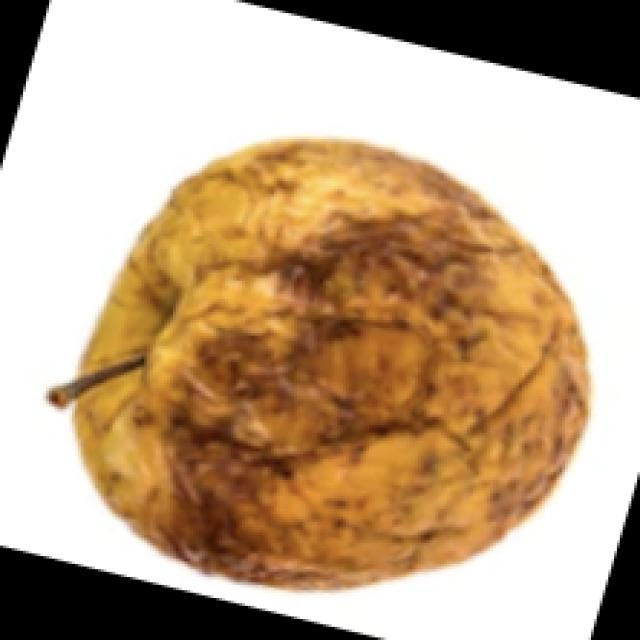Rotten: (74, 133, 578, 605)
